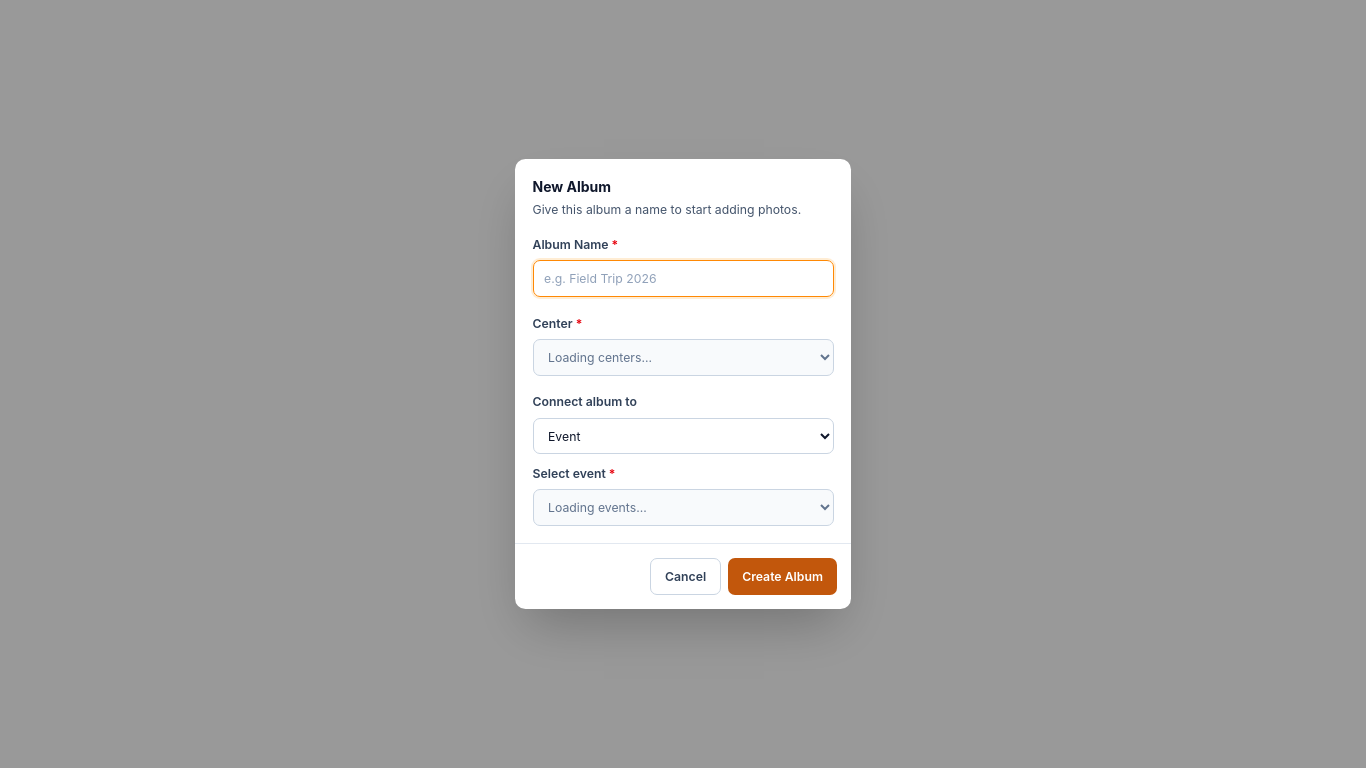
Test: CreateAlbumModal center › makes an Admin choose a center before the album can be created
Step 1. Type "Trip" into the field labelled "Album Name *" → (683, 279), box x1=532 y1=260 x2=834 y2=297
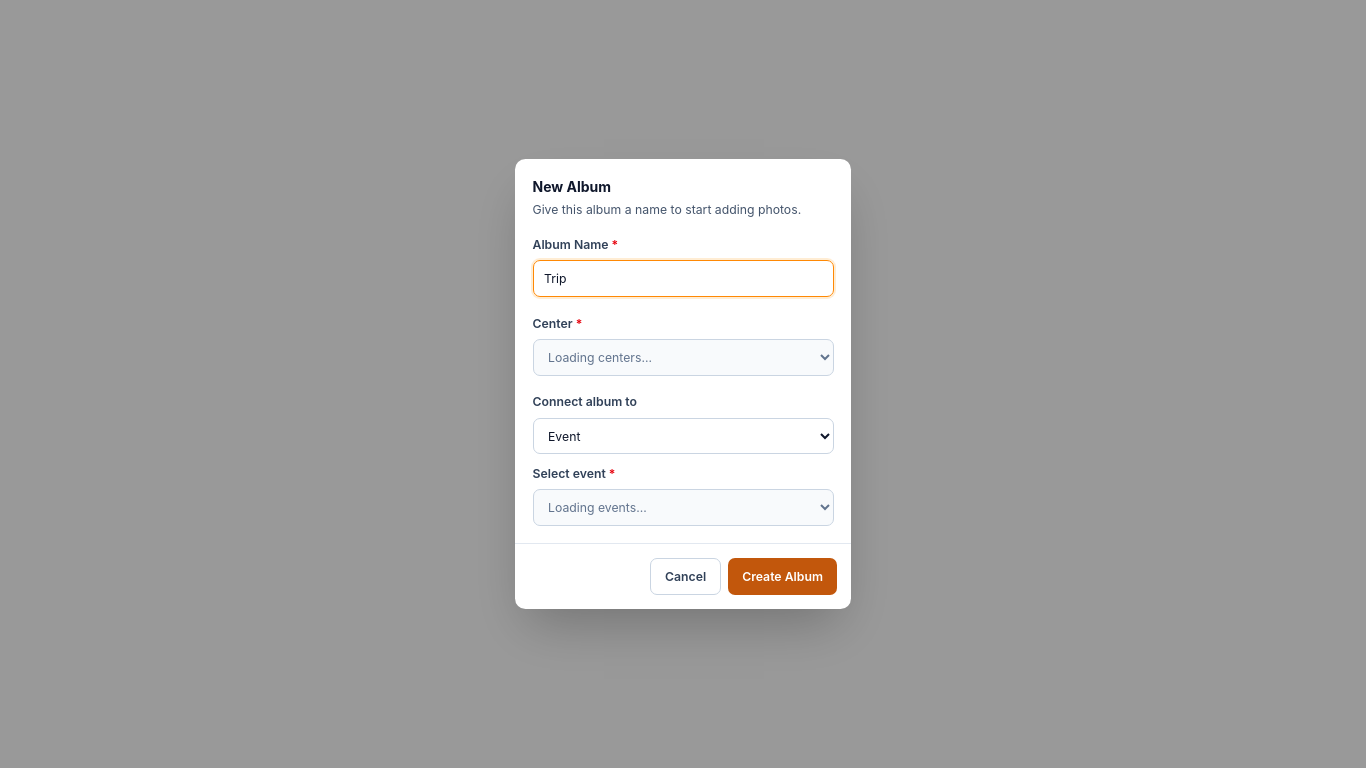
Step 2. Submit the form, box x1=515 y1=159 x2=851 y2=609
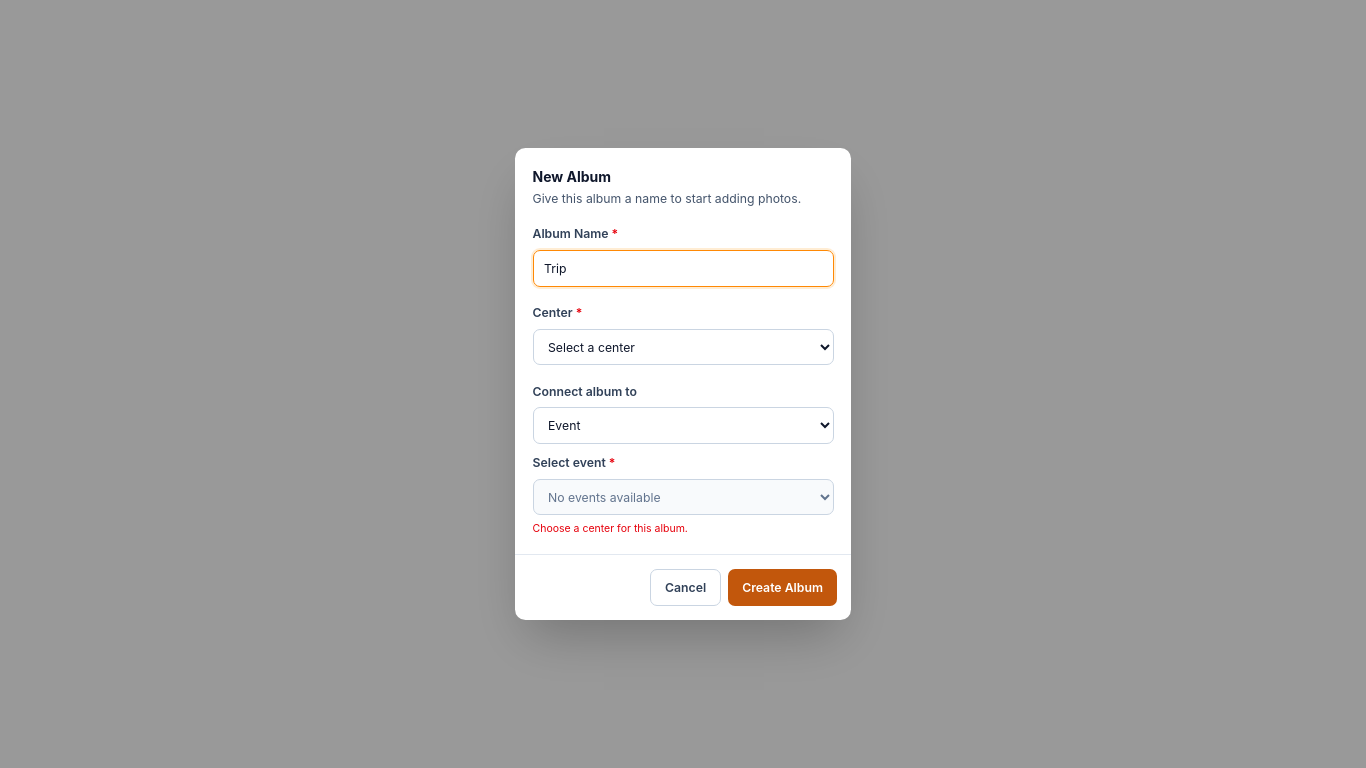
Now the message shows "Choose a center", box x1=532 y1=522 x2=688 y2=535
